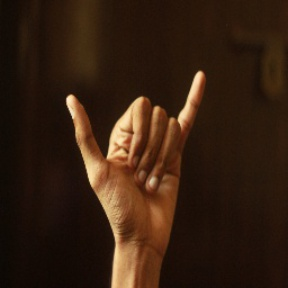J: (64, 69, 210, 234)
